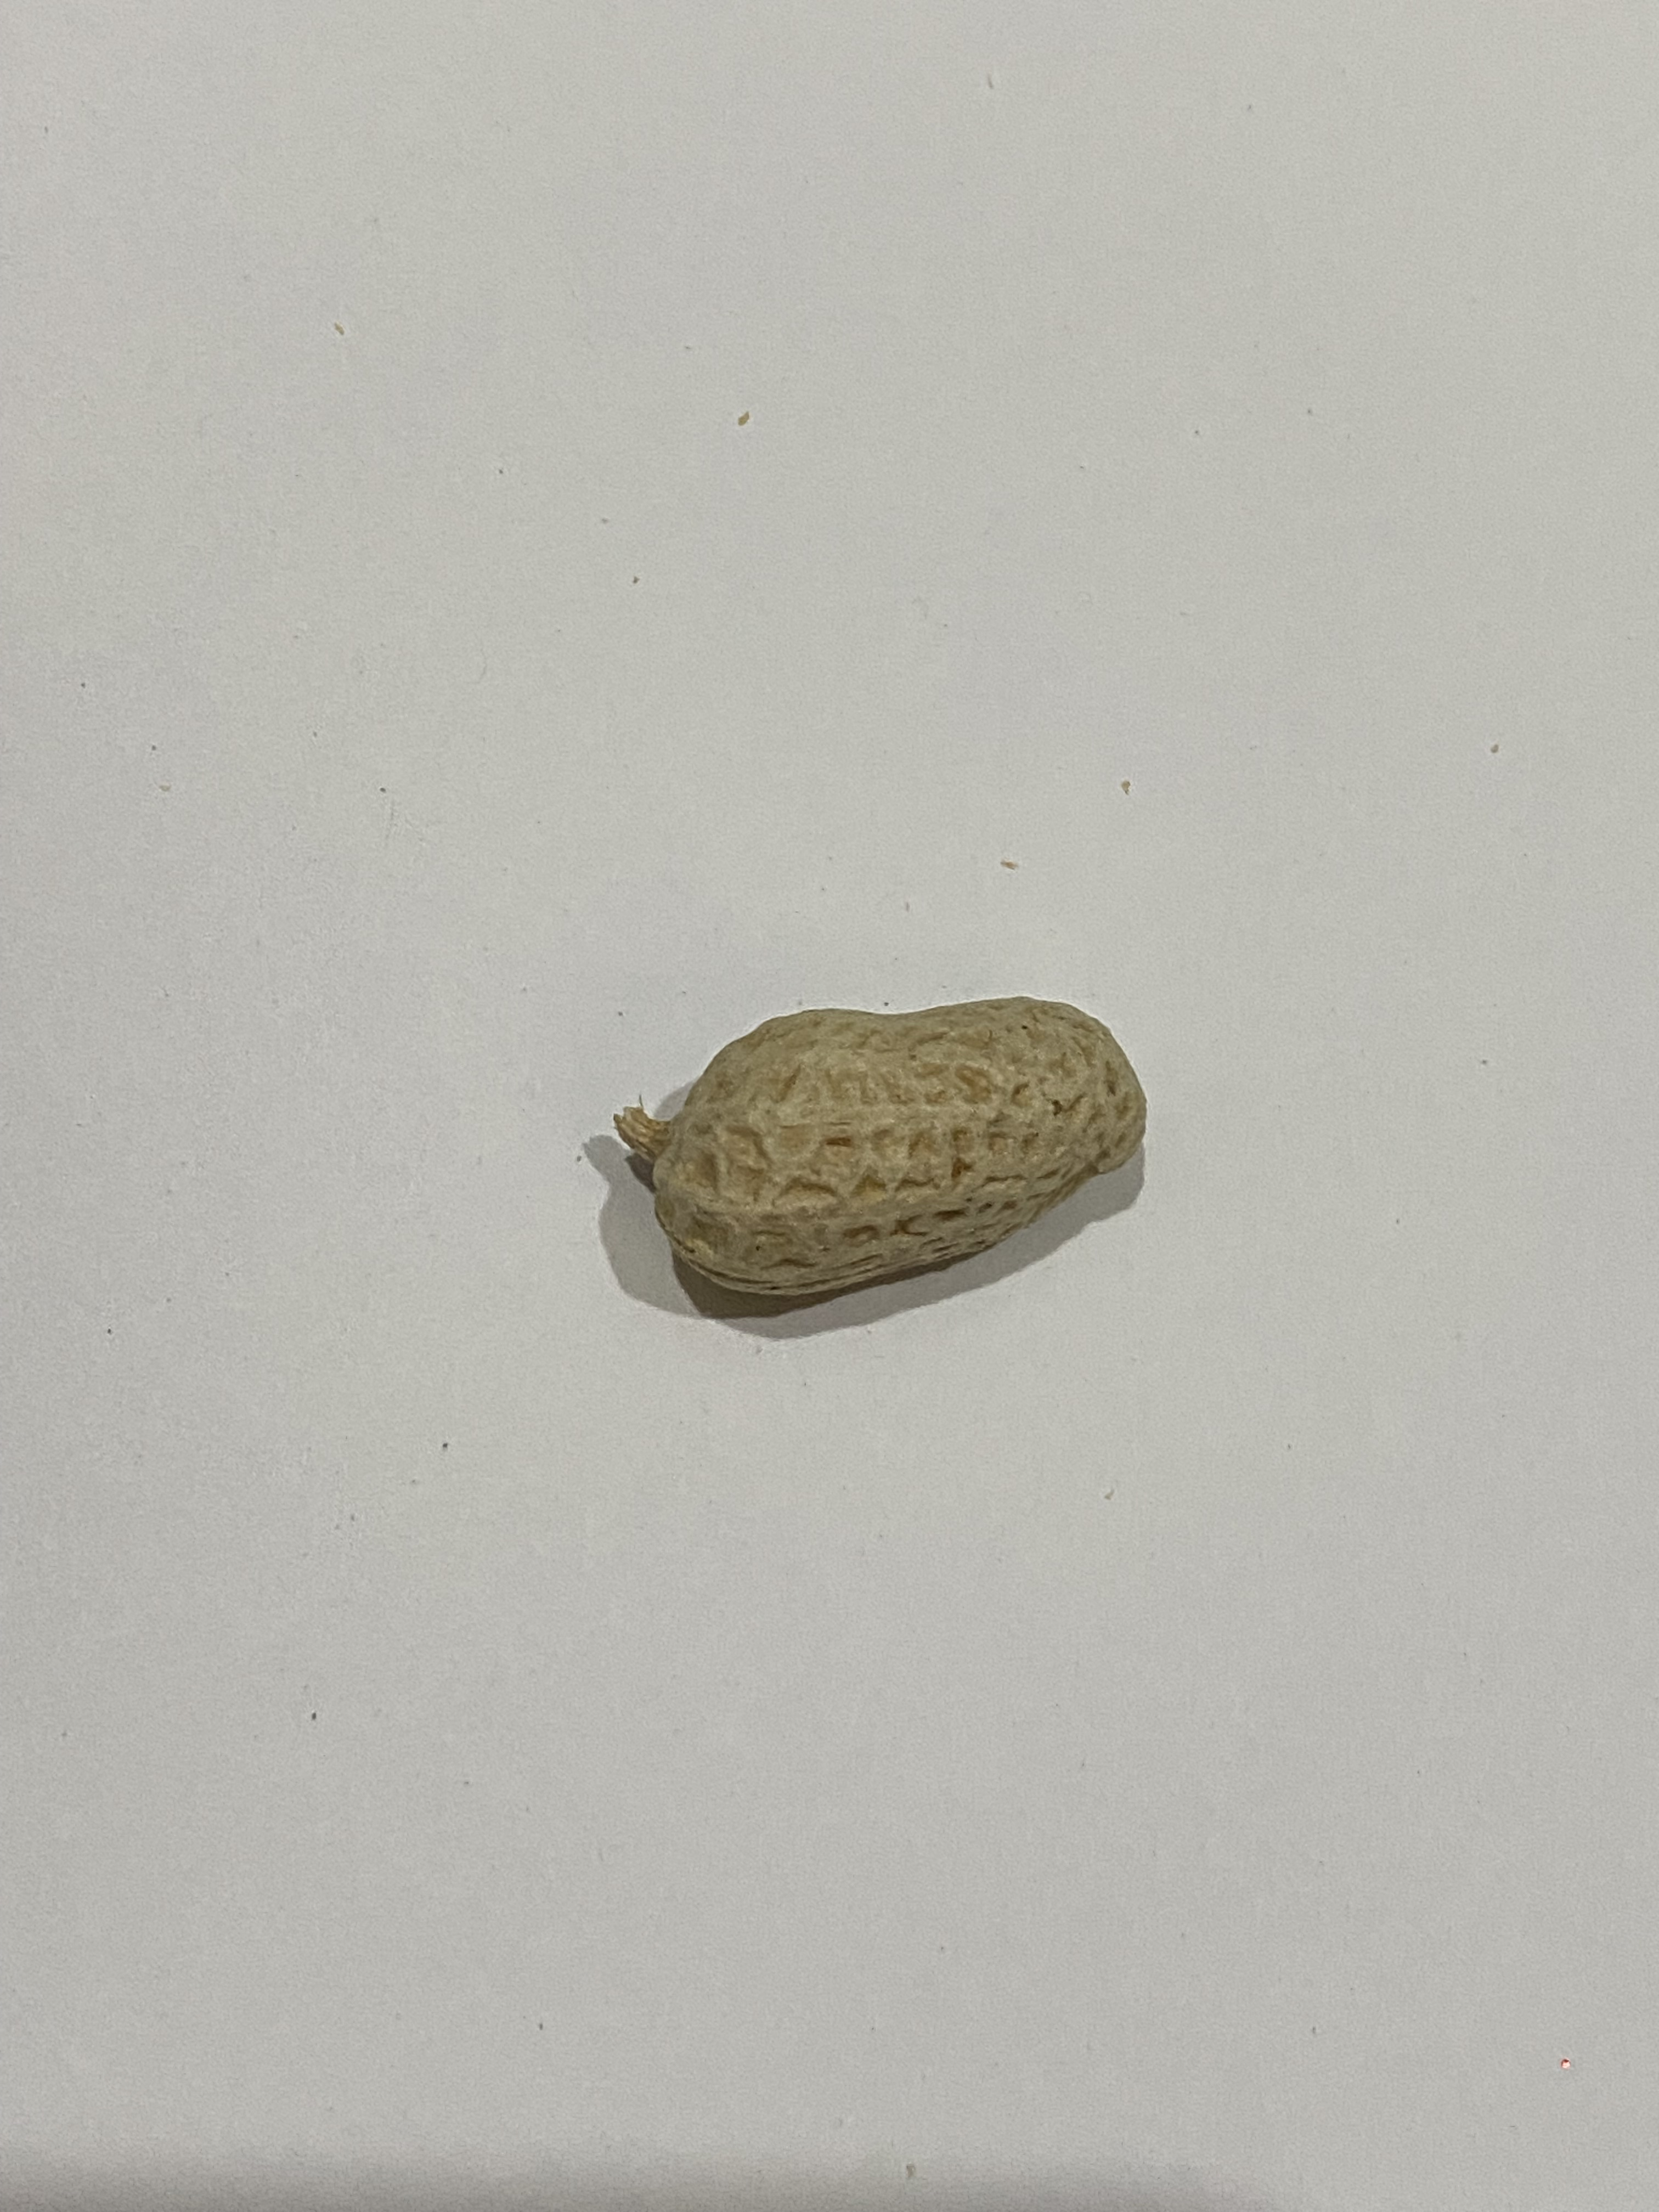kacang2: (619, 958, 1168, 1329)
